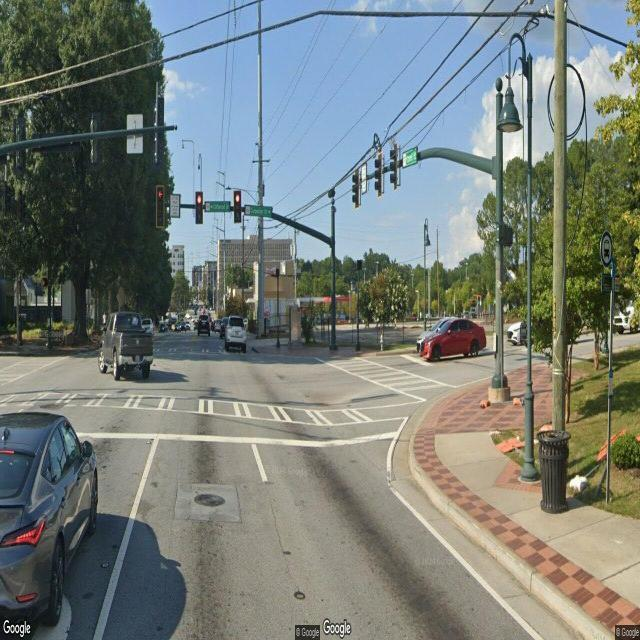trash_can: (536, 430, 572, 514)
